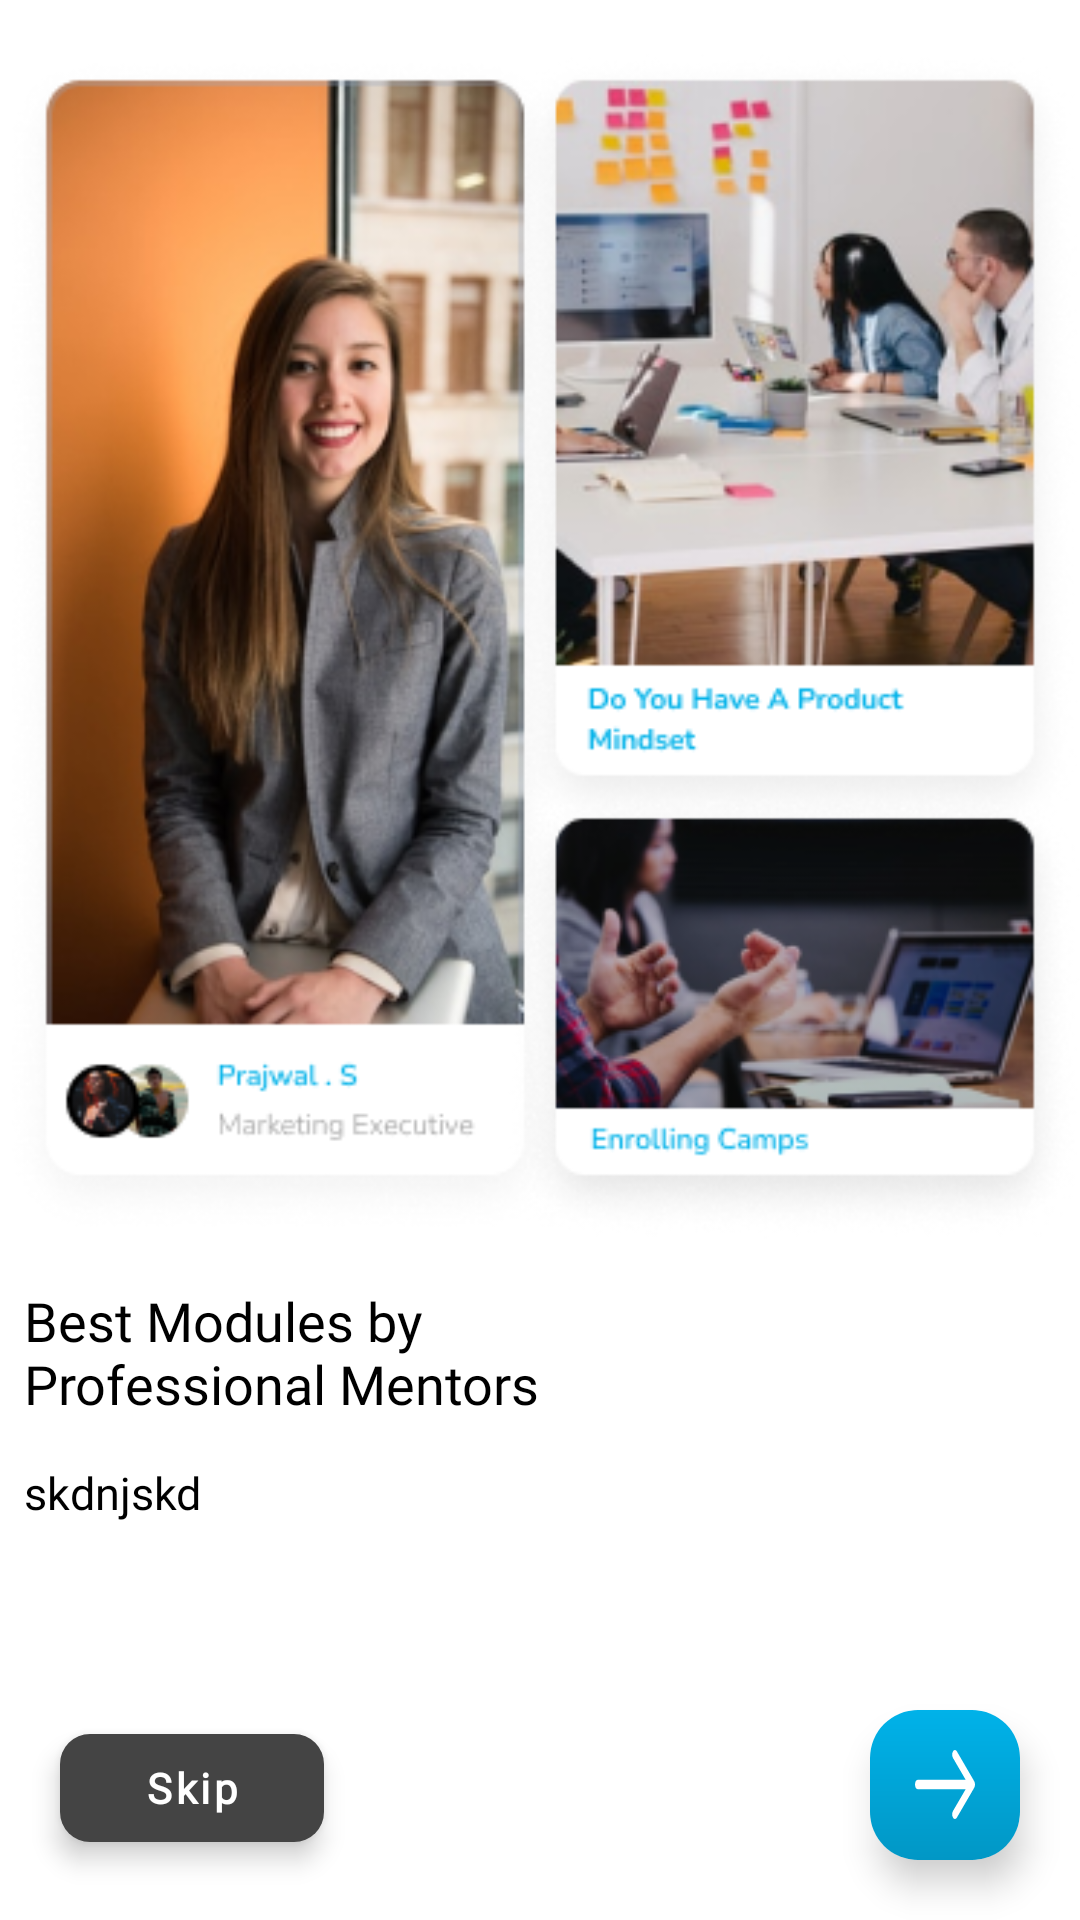

Screen size 1080x1920. Icon name, then its center in pixels as point (x, y):
arrow: point (945, 1784)
